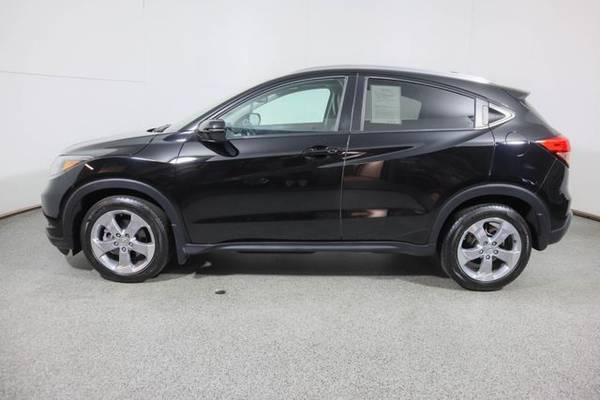Front_Bumper: (38, 173, 78, 253)
Front_Fender: (61, 136, 192, 245)
Front_Left_Door: (172, 135, 345, 250)
Front_Left_Window: (188, 76, 354, 139)
Left_Taillight: (535, 133, 571, 168), (47, 153, 91, 177)
Rear_Bumper: (531, 157, 571, 250)
Rear_Fender: (486, 119, 555, 201)
Rear_Left_Door: (338, 132, 495, 258)
Rear_Left_Window: (347, 76, 514, 135)
Roof: (177, 66, 558, 138)
Wheel: (442, 203, 536, 291), (76, 193, 168, 281)
